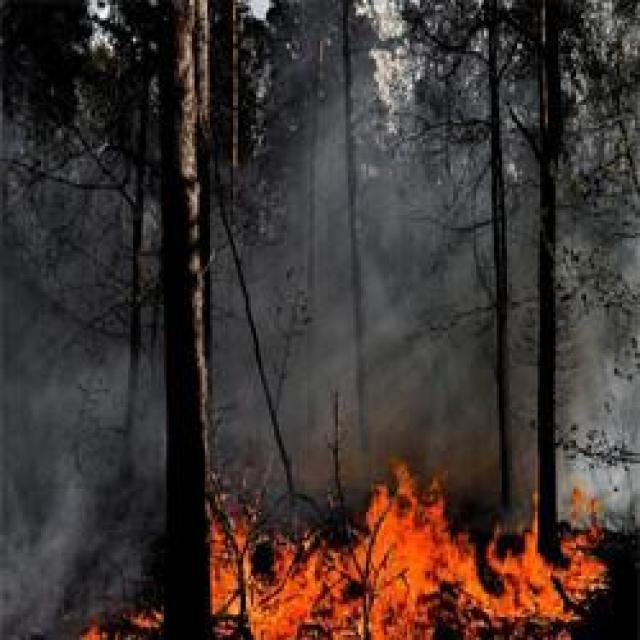Fire: (382, 508, 466, 630), (263, 557, 358, 640), (475, 546, 576, 612), (210, 529, 253, 620)
